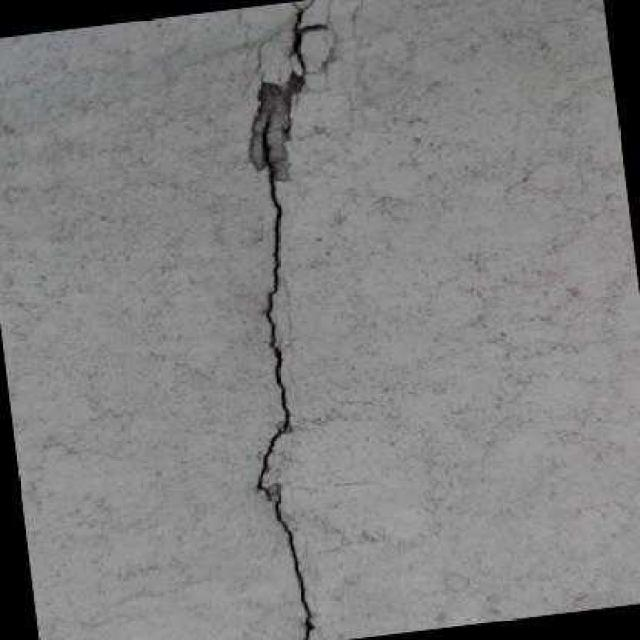D00: (246, 0, 326, 640)
